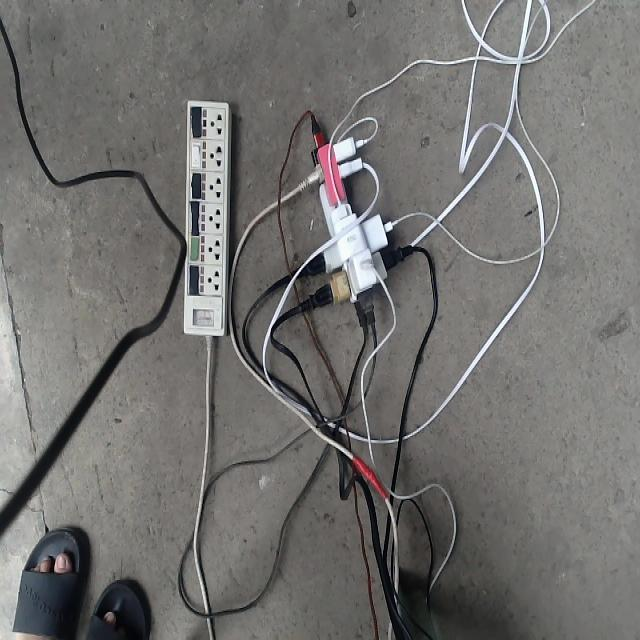-: (293, 117, 416, 327)
